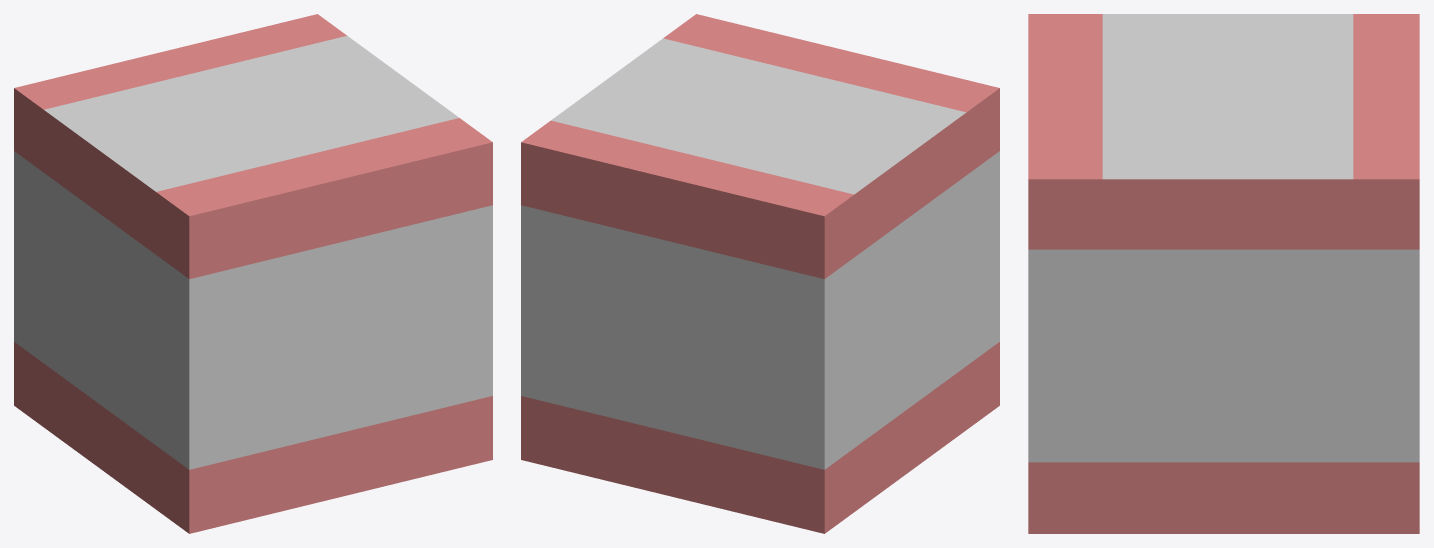
3 views of the same model, side by side, from view 1: azimuth 30°, elevation 25°; view 2: azimuth 150°, elevation 25°; view 3: azimuth 270°, elevation 25° (orthographic). The views are drawn at different scales.
Parts seen in each view (by area): view 1: Cube; view 2: Cube; view 3: Cube.
Boxes of the visible parts, x1,y1,x2,y2 form: Cube: (14, 14, 492, 533); Cube: (521, 14, 999, 533); Cube: (1028, 14, 1419, 533).
Size of the model in its own units: 200 by 200 by 200.
